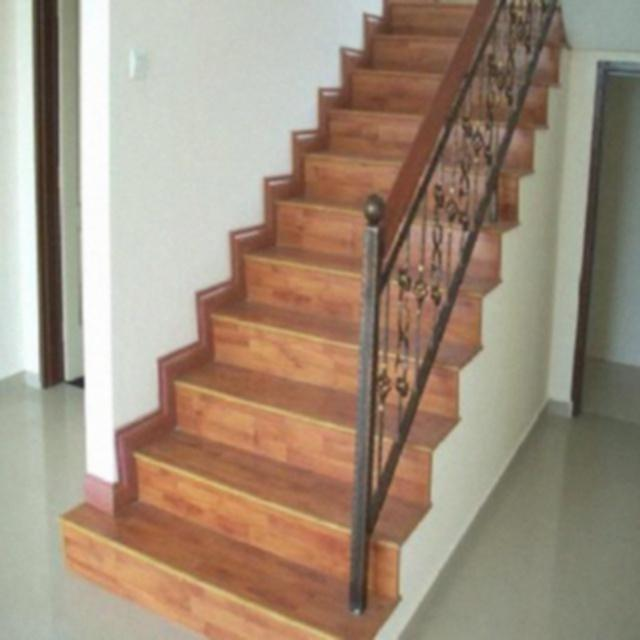stair: (70, 0, 582, 620)
